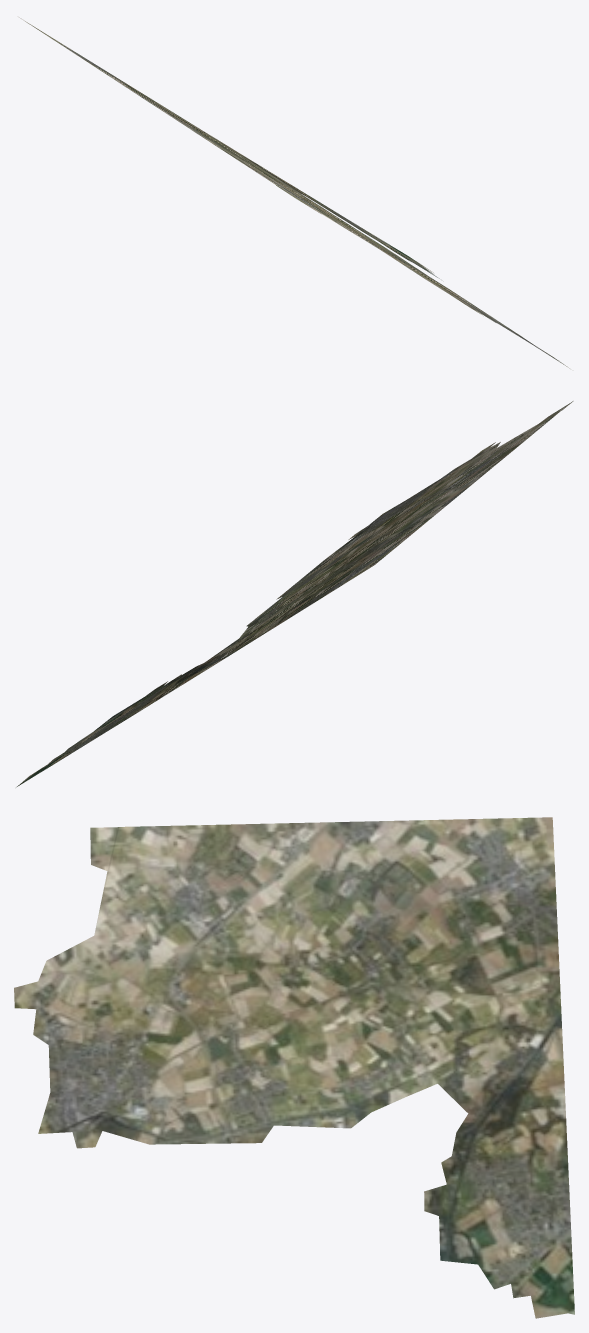
The model's file is lille_noq.glb.
The picture shows the model from 3 angles, top to bottom: view 1: azimuth 30°, elevation 25°; view 2: azimuth 150°, elevation 25°; view 3: azimuth 270°, elevation 25°; orthographic projection. The views are drawn at different scales.
Bounding box in the file's own units: 6482 × 5312 × 8451.
Materials: 1 (1 with a texture image).
